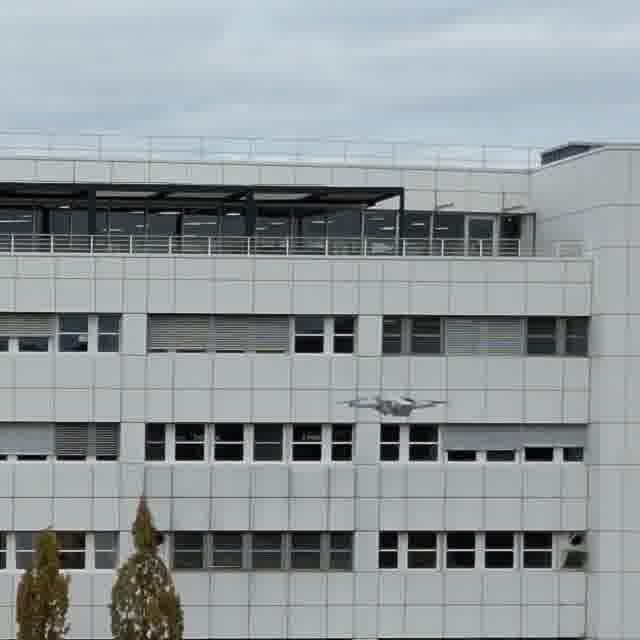Drohne: (338, 394, 446, 416)
